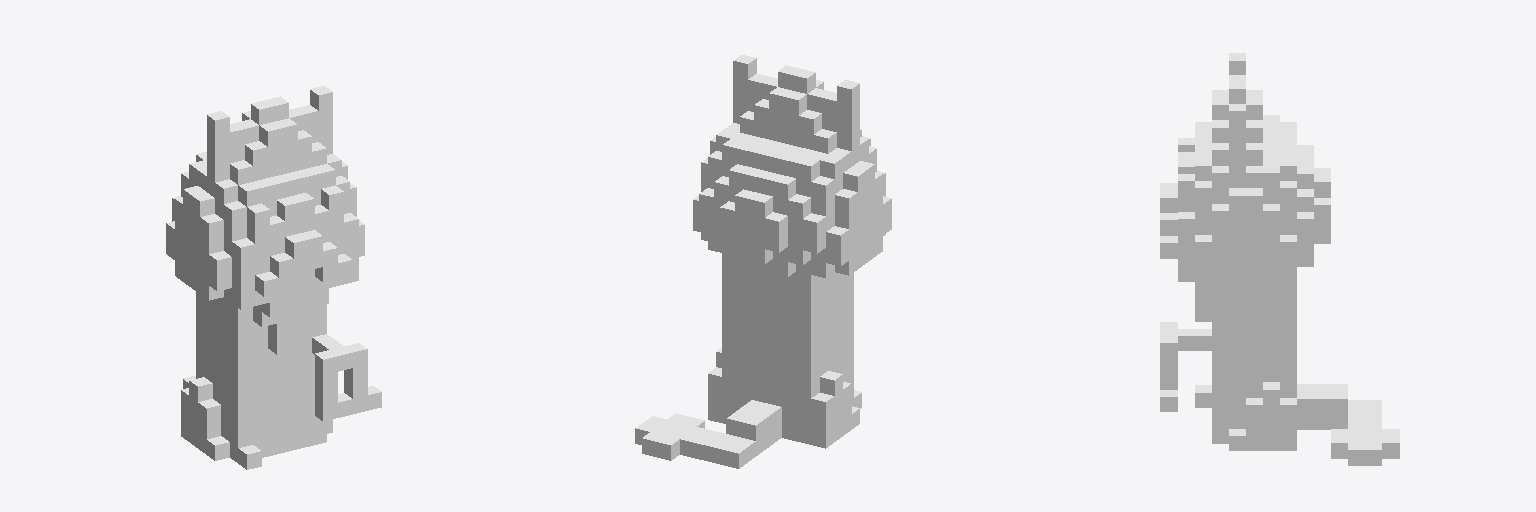
File: catWQueen.obj
3 renders of one model, left to right at view 1: azimuth 30°, elevation 25°; view 2: azimuth 150°, elevation 25°; view 3: azimuth 270°, elevation 25°, orthographic.
Visible parts, largest first — view 1: object 1; view 2: object 1; view 3: object 1.
Part boxes in pixels (bbox=[...]): object 1: bbox=[166, 86, 381, 469]; object 1: bbox=[635, 55, 891, 468]; object 1: bbox=[1160, 53, 1399, 465].
Bounding box in the file's own units: 1.1 × 2.2 × 1.4.